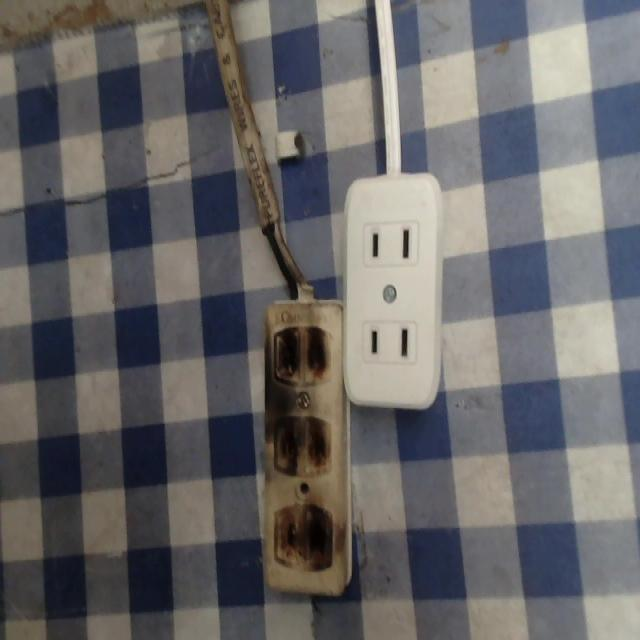-: (270, 507, 336, 582), (268, 316, 336, 385), (269, 409, 333, 482)
